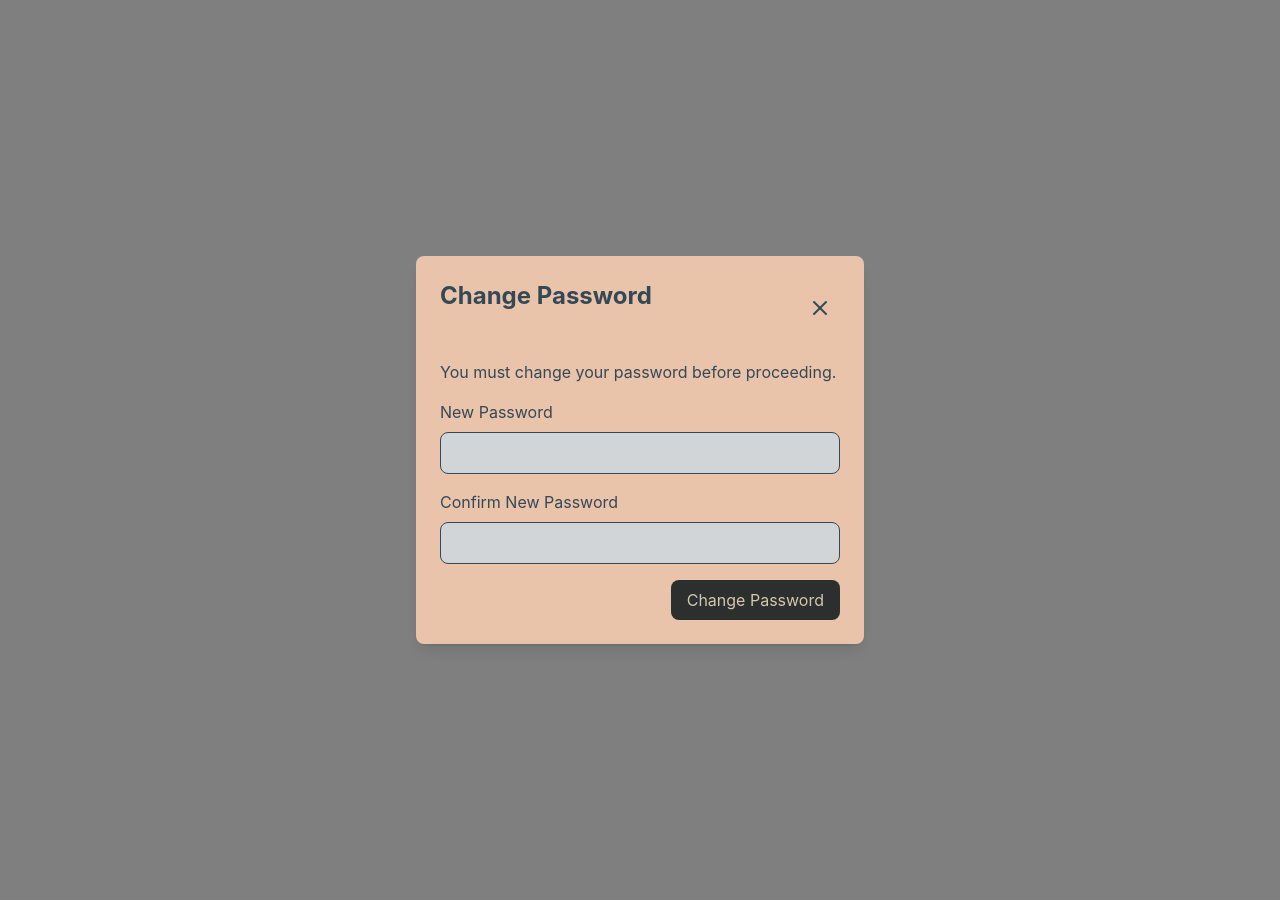
Test: ChangePasswordModal Component › handles password change errors
Type "StrongPass123!" into the password field with test id "new-password-input".
click(640, 453); type("StrongPass123!")  # box top-left (440, 432), bottom-right (840, 474)
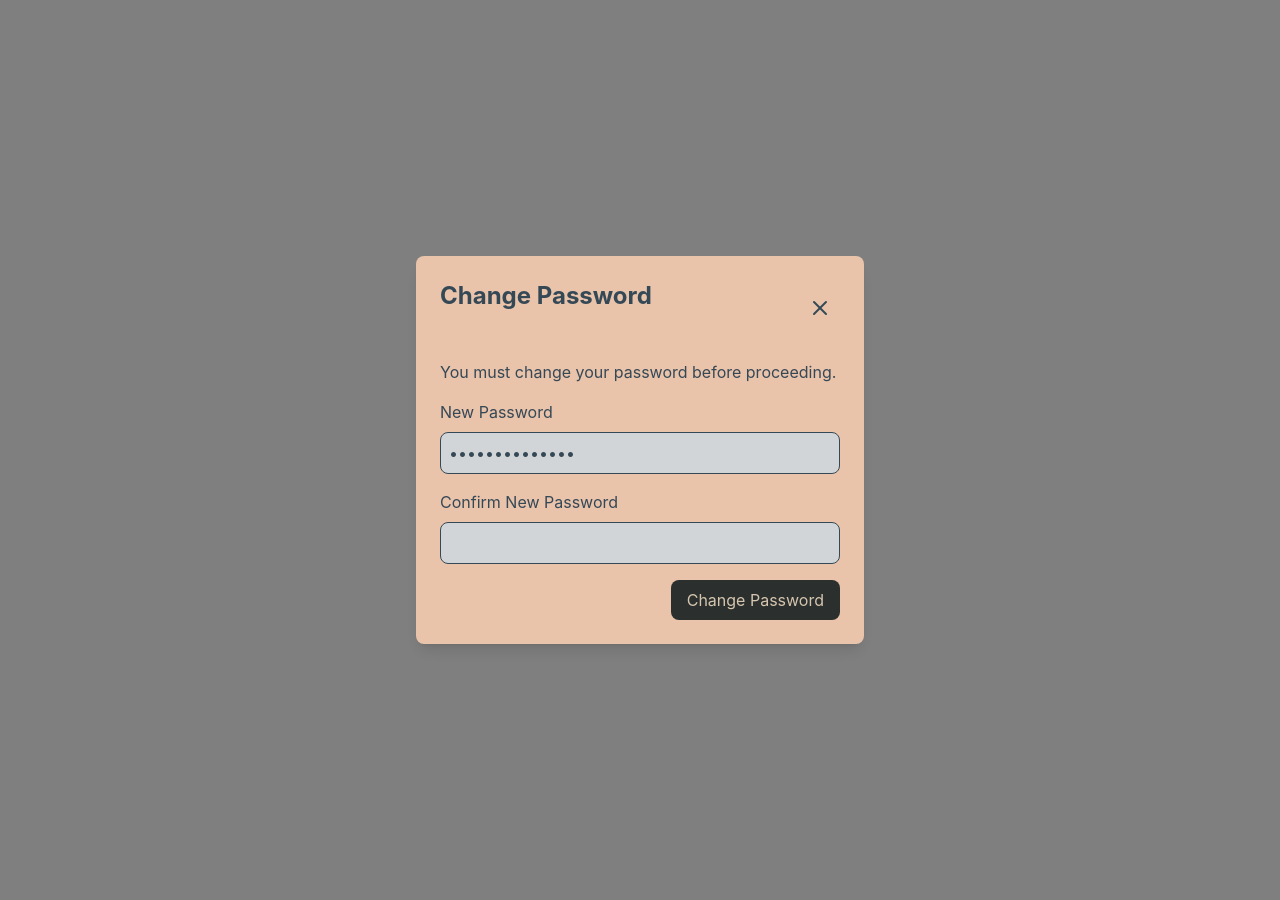
Type "StrongPass123!" into the password field with test id "confirm-password-input".
click(640, 543); type("StrongPass123!")  # box top-left (440, 522), bottom-right (840, 564)
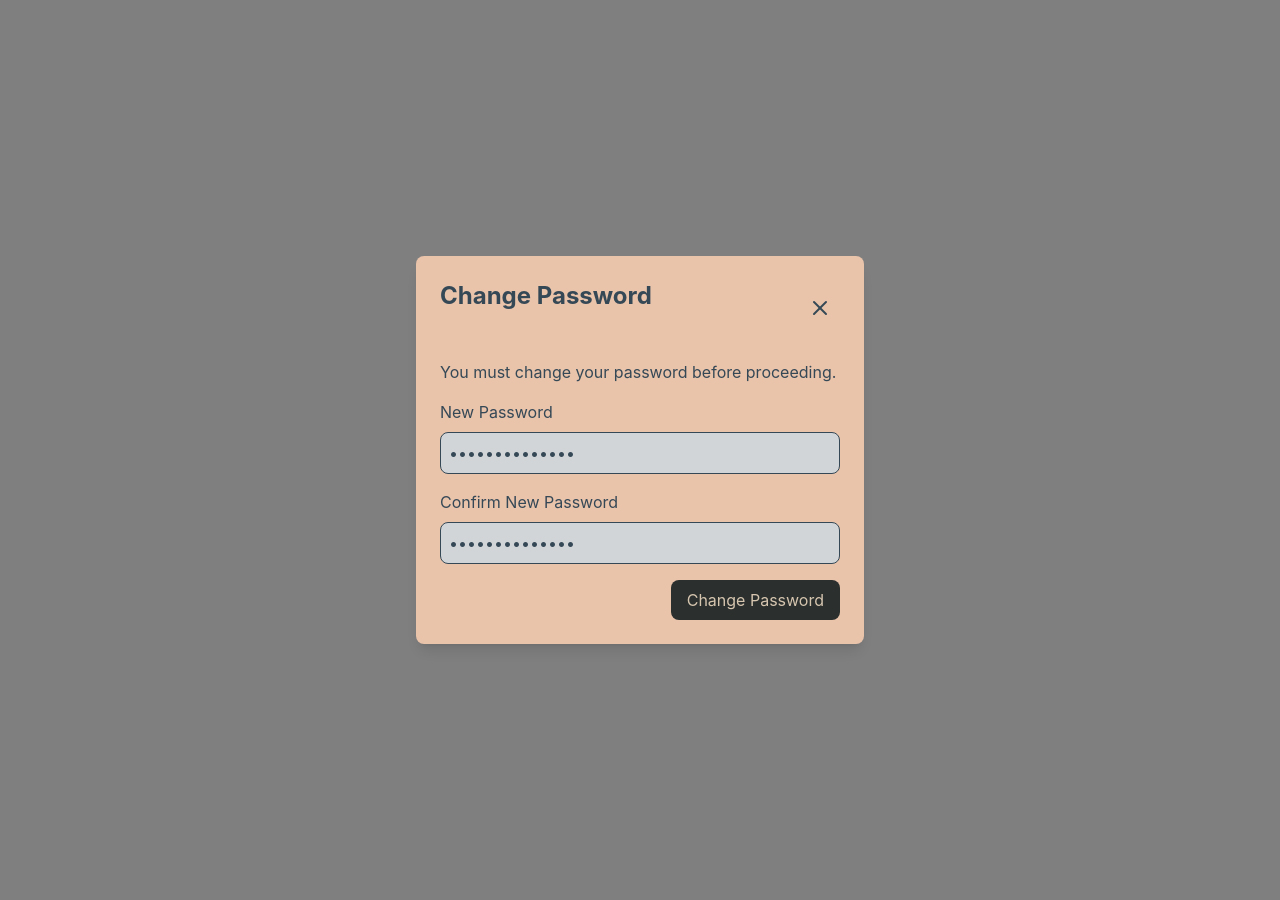
Click the button "Change Password".
click(755, 600)  # box top-left (671, 580), bottom-right (840, 620)
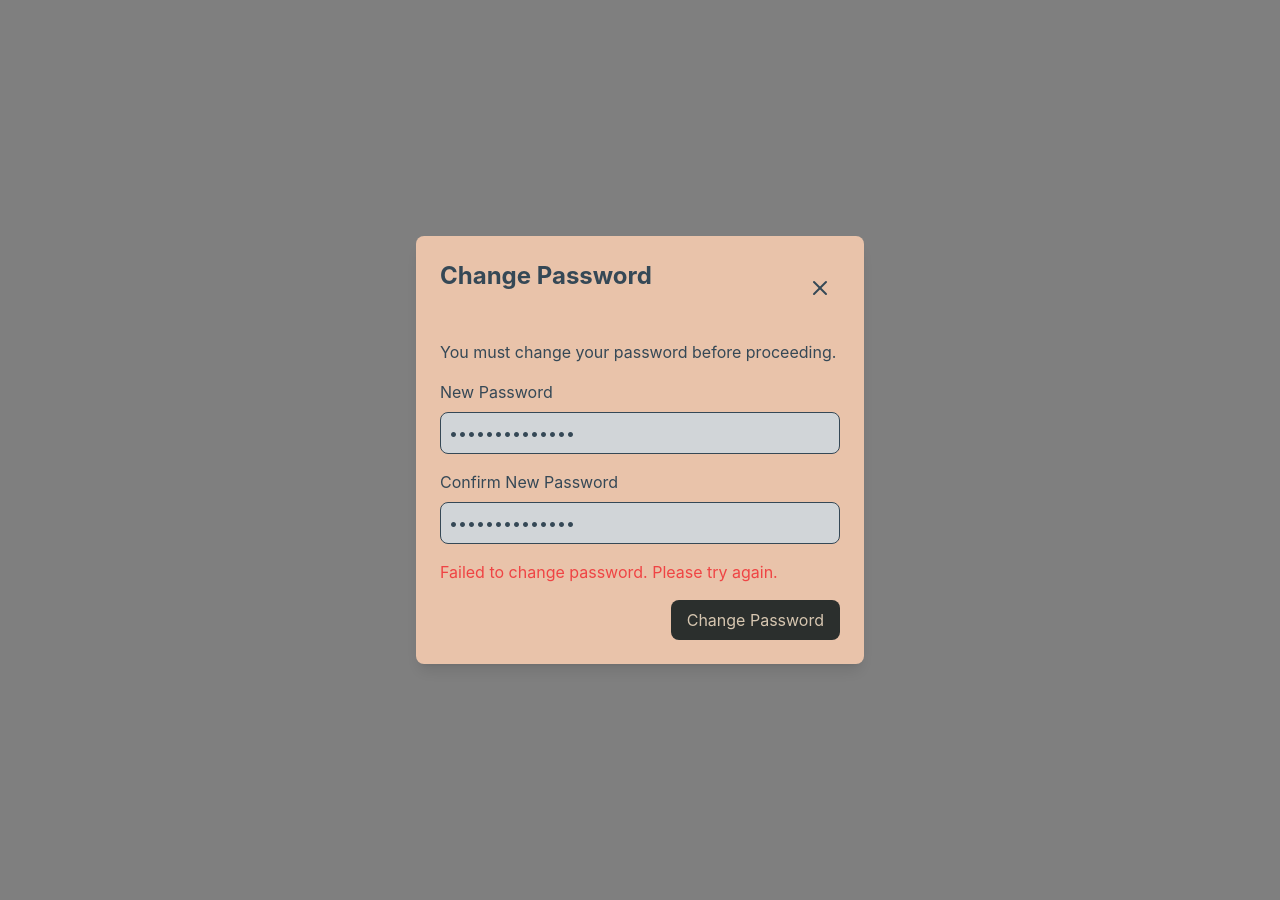
Expected: the text "Failed to change password. Please try again." is shown, top-left (440, 562), bottom-right (778, 582)
